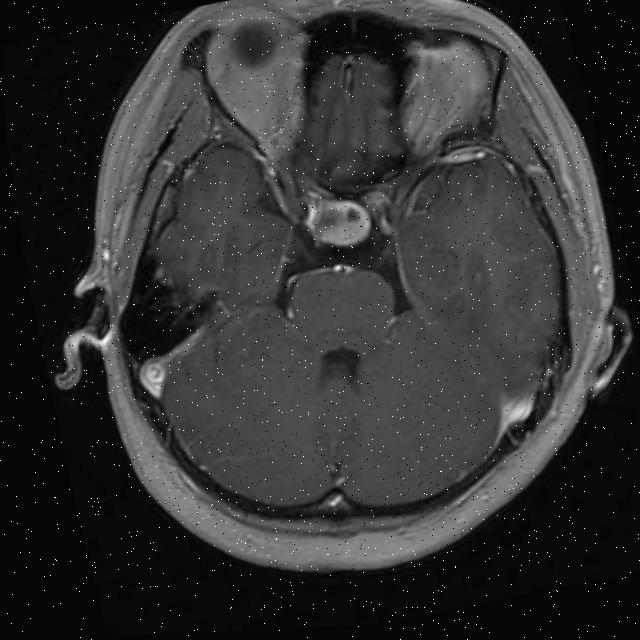Pituitary: (309, 193, 375, 252)
